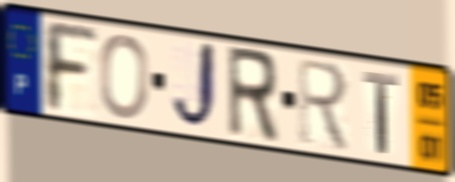F: (40, 16, 101, 117)
J: (168, 38, 219, 136)
O: (97, 32, 150, 122)
R: (224, 43, 281, 148), (295, 54, 352, 156)
T: (361, 67, 401, 157)
